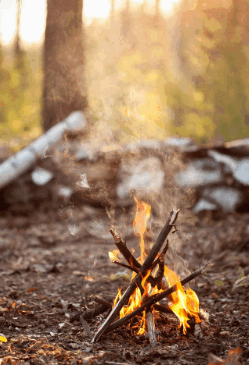Fire: (117, 193, 210, 333)
